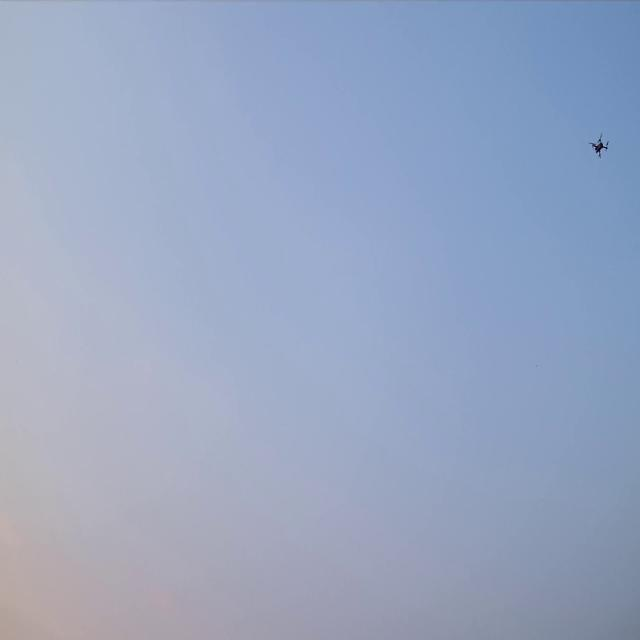UAV: (592, 136, 608, 157)
